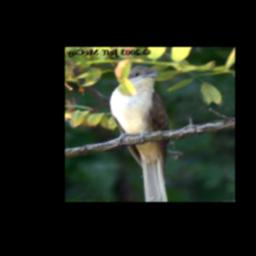Cuckoo: (109, 65, 173, 202)
